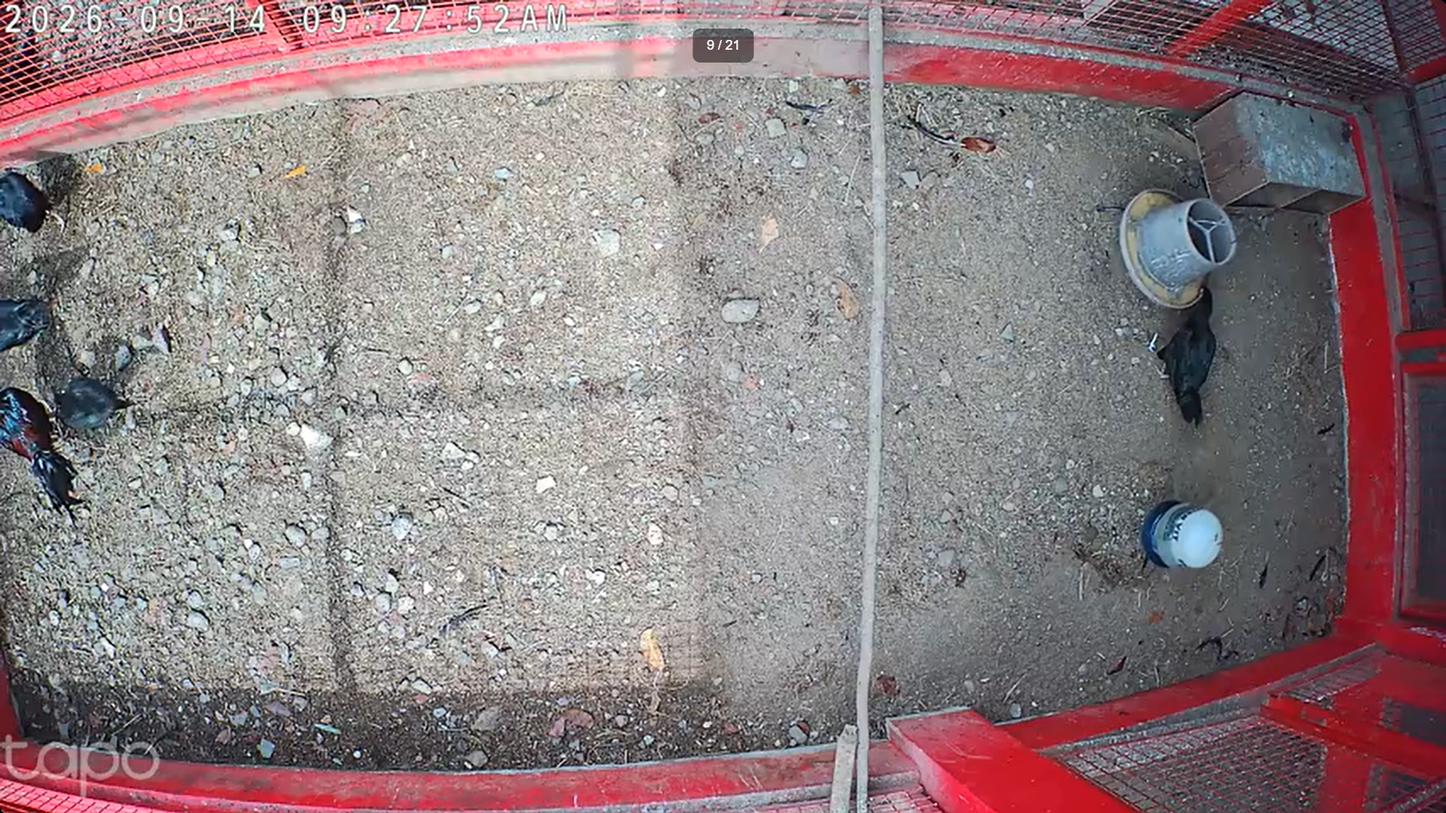Chicken: (1145, 283, 1217, 432), (44, 376, 140, 431), (0, 167, 77, 234), (0, 282, 47, 372)
Rooster: (0, 382, 102, 524)
